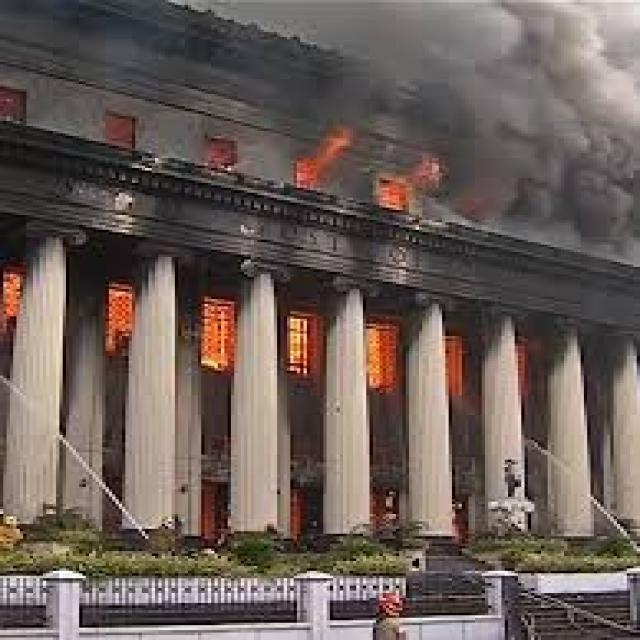Fire: (374, 158, 444, 210), (298, 128, 358, 185), (361, 320, 396, 390), (200, 296, 230, 372), (106, 281, 135, 357), (286, 310, 310, 376), (444, 334, 464, 397), (3, 267, 18, 337), (513, 338, 526, 399)
Smoke: (386, 0, 637, 262)
